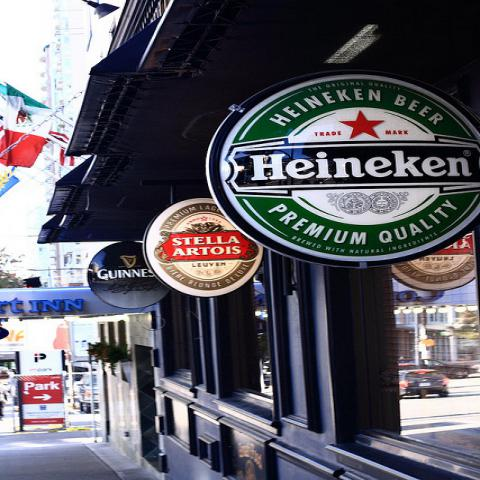car: (396, 358, 479, 379), (398, 369, 448, 398), (73, 372, 98, 414)
